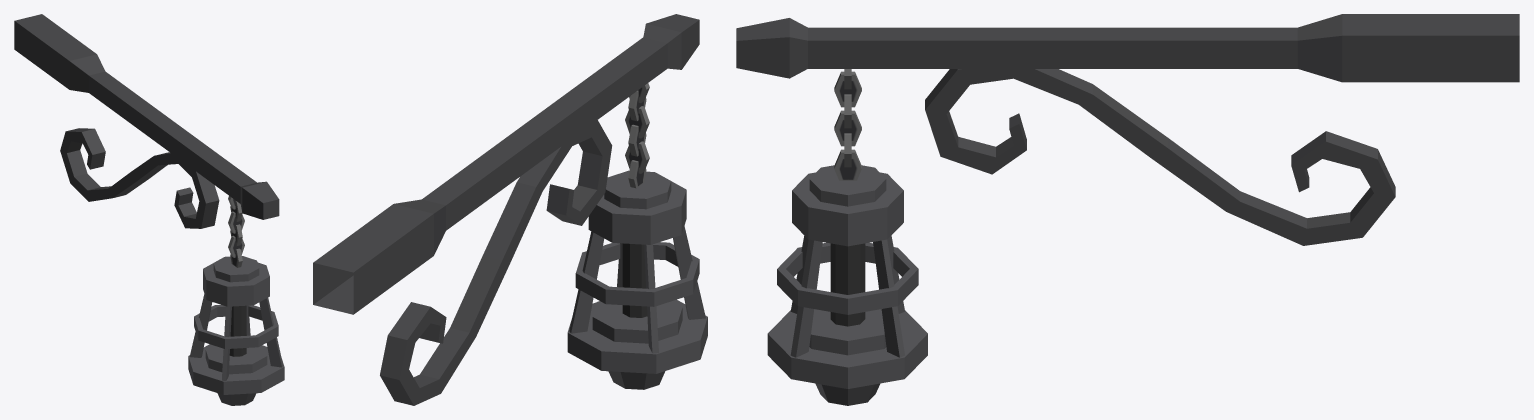
File: SM_Prop_Lantern_Attachment_01.glb
3 renders of one model, left to right at view 1: azimuth 30°, elevation 25°; view 2: azimuth 150°, elevation 25°; view 3: azimuth 270°, elevation 25°, orthographic. The views are drawn at different scales.
Parts seen in each view (by area): view 1: node_id4; view 2: node_id4; view 3: node_id4.
Boxes of the visible parts, x1,y1,x2,y2 form: node_id4: [14, 14, 284, 405]; node_id4: [313, 14, 707, 405]; node_id4: [736, 14, 1519, 405].
Size of the model in its own units: 0.2015 by 0.512 by 0.9839.
Materials: 1 (1 with a texture image).
